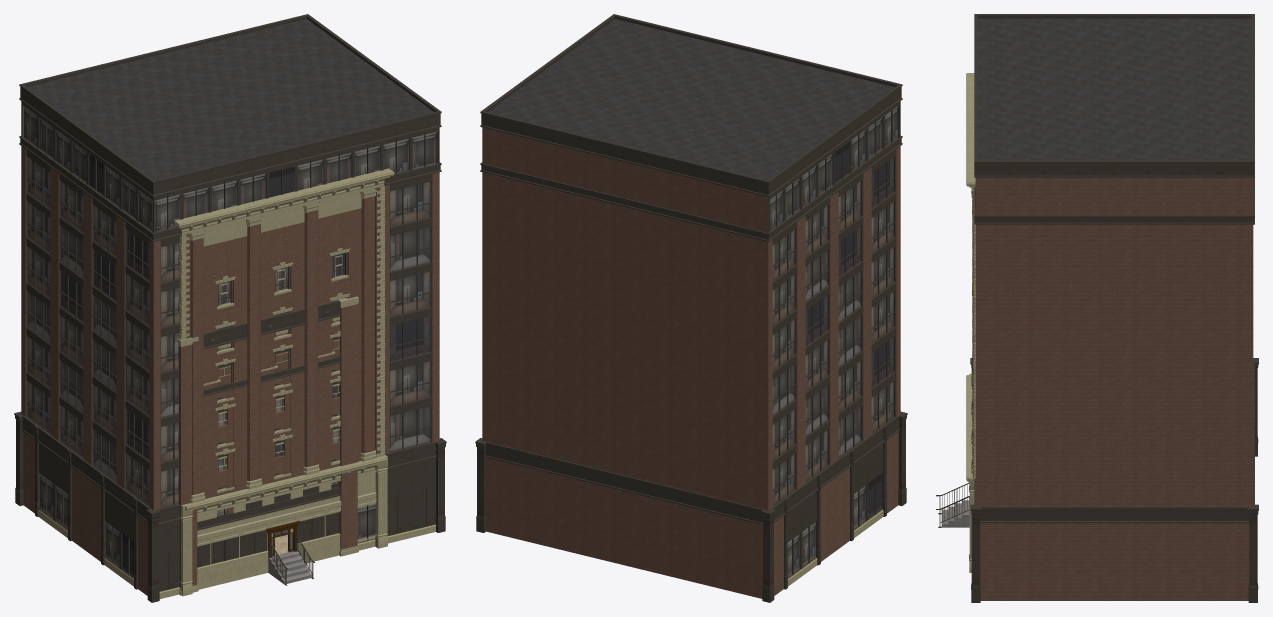
File: buildings.glb
The picture shows the model from 3 angles, left to right: view 1: azimuth 30°, elevation 25°; view 2: azimuth 150°, elevation 25°; view 3: azimuth 270°, elevation 25°; orthographic projection. The views are drawn at different scales.
Visible parts, largest first — view 1: Building_Large_2, Building_Medium_2.001, Building_Small_1; view 2: Building_Large_2; view 3: Building_Large_2, Building_Medium_2.001, Building_Small_1.
Boxes of the visible parts, x1=… form: Building_Large_2: x1=14, y1=14, x2=446, y2=602; Building_Medium_2.001: x1=174, y1=168, x2=394, y2=596; Building_Small_1: x1=177, y1=296, x2=358, y2=595; Building_Large_2: x1=475, y1=14, x2=907, y2=602; Building_Large_2: x1=970, y1=14, x2=1258, y2=602; Building_Medium_2.001: x1=966, y1=73, x2=975, y2=572; Building_Small_1: x1=936, y1=200, x2=972, y2=527.
Bounding box in the file's own units: 20.64 × 28.01 × 18.63.
10 materials, 9 textured.
